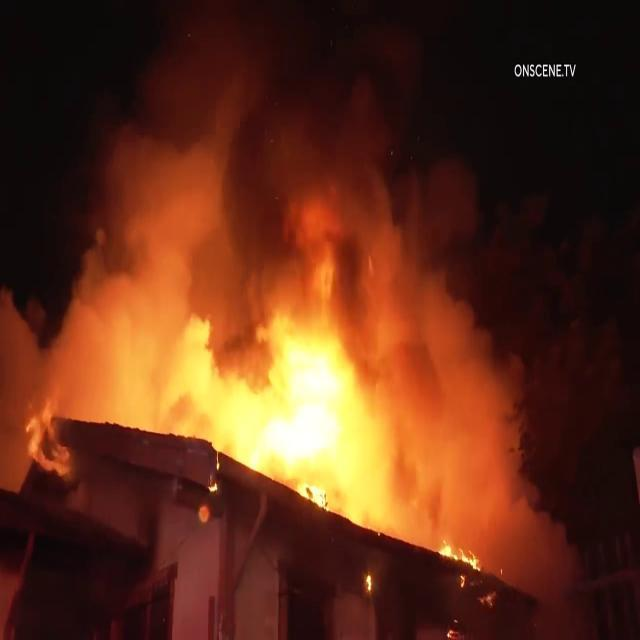Fire: (247, 334, 367, 488)
Smoke: (232, 31, 466, 320), (99, 82, 200, 420), (435, 347, 554, 633)
